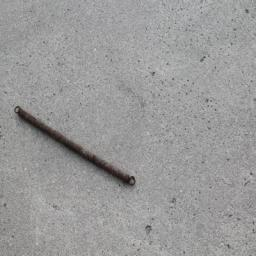FOD: (13, 106, 139, 189)
